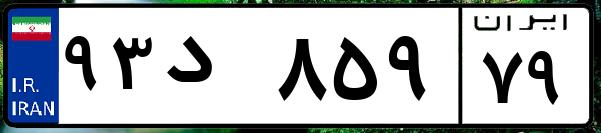3: (110, 28, 158, 98)
5: (330, 28, 385, 110)
7: (475, 38, 525, 113)
8: (270, 28, 330, 110)
9: (385, 28, 445, 110), (57, 26, 110, 100), (525, 38, 570, 115)
د: (158, 20, 270, 120)
